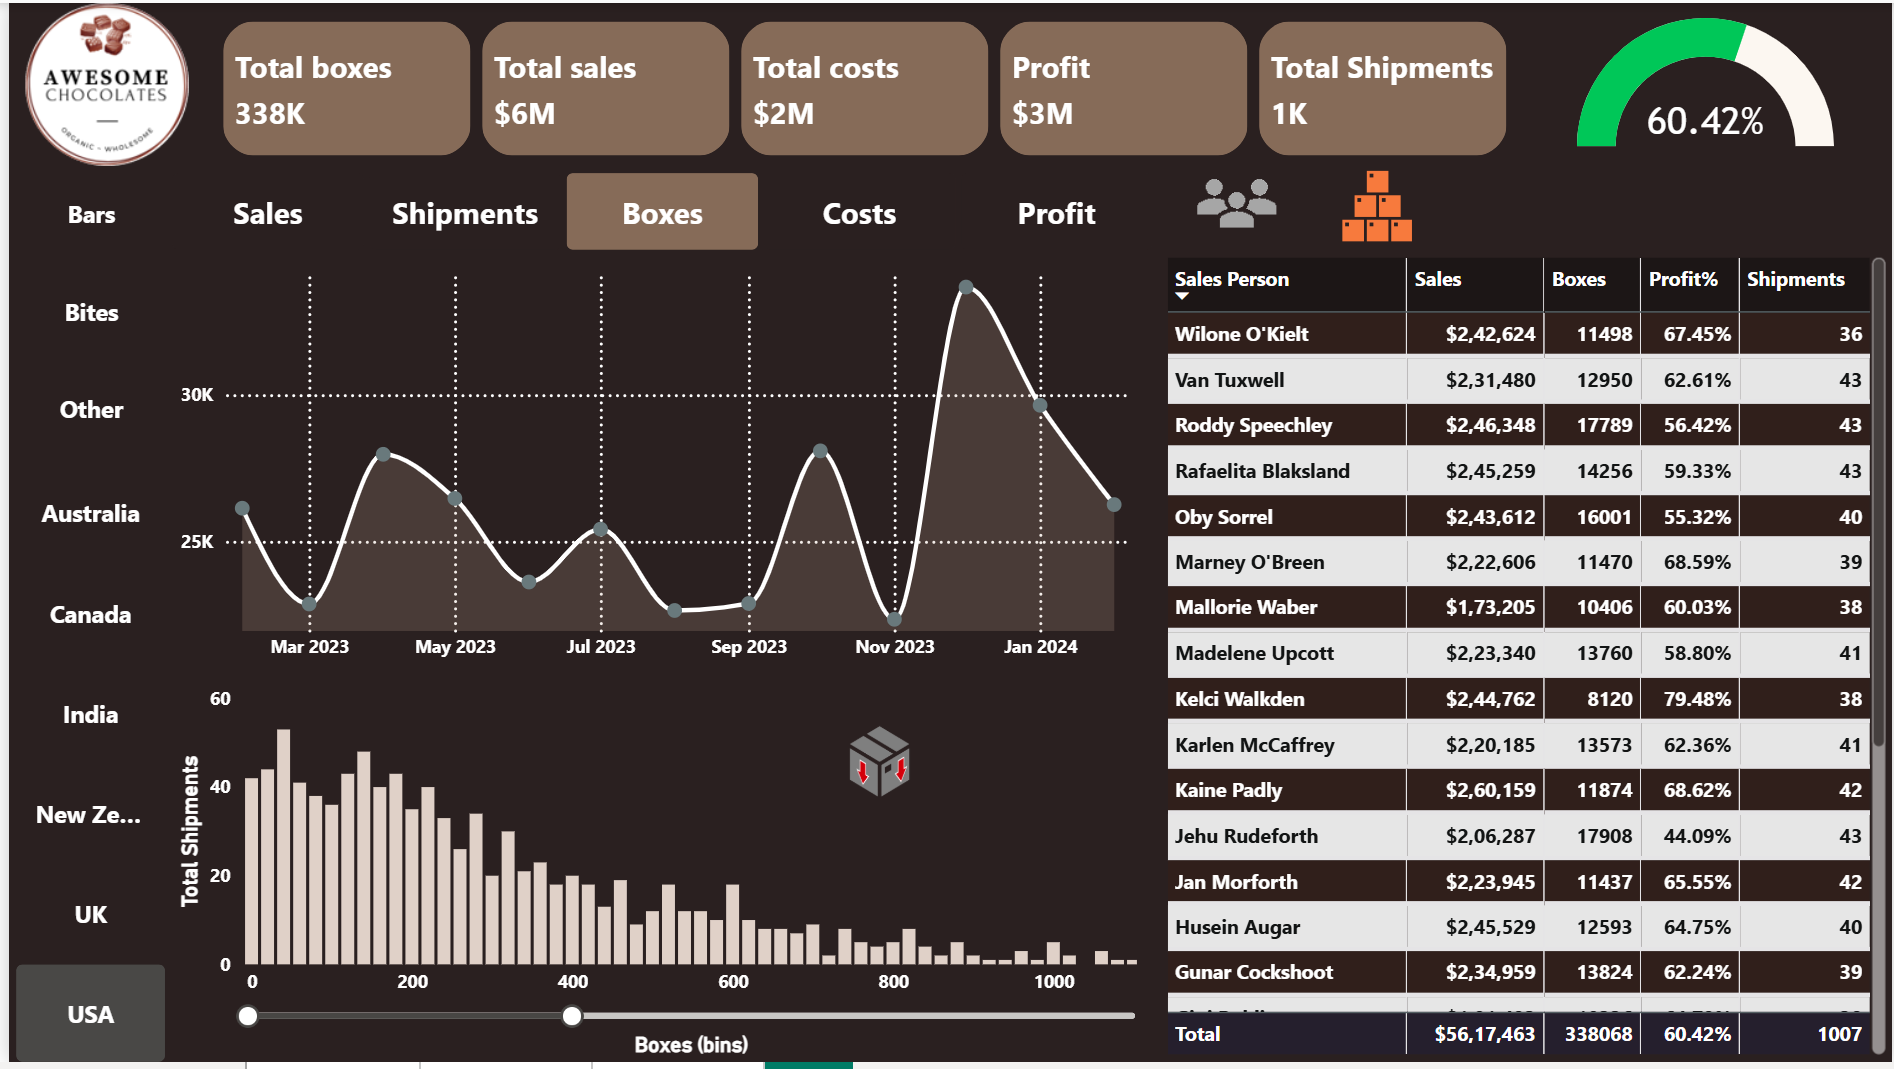

The page's visual inventory and layout, read from the dashboard file:
{"tool":"powerbi","page":{"name":"Page 2","canvas":[1280,720],"ordinal":0},"visuals":[{"type":"gauge","fields":{"Y":["_Measures.Profit%"]},"box":[1026,0,254,107.3],"z":0},{"type":"cardVisual","fields":{"Data":["_Measures.Total boxes","_Measures.Total sales","_Measures.Total costs","_Measures.Profit","_Measures.total shipments"]},"box":[136.9,3.8,889,107.3],"z":1000},{"type":"lineChart","fields":{"Y":["_Measures.Total boxes"],"Category":["calendar.Start of Month"]},"box":[112.3,172.3,669.5,283.1],"z":2000},{"type":"advancedSlicerVisual","fields":{"Values":["measure selector.measure selector"]},"box":[106.7,111.7,675,60],"z":3000},{"type":"advancedSlicerVisual","fields":{"Values":["shipments.Geography"]},"box":[0,313.3,111.7,406.7],"z":4000},{"type":"advancedSlicerVisual","fields":{"Values":["products.Category"]},"box":[0,106.3,112.3,206.7],"z":5000},{"type":"columnChart","fields":{"Category":["shipments.Boxes (bins)"],"Y":["_Measures.total shipments"]},"box":[110.6,458,674.5,261.7],"z":6000},{"type":"tableEx","title":"sales table","fields":{"Values":["shipments.Sales Person","_Measures.Total sales","_Measures.Total boxes","_Measures.Profit%","_Measures.total shipments"]},"box":[781.9,167.8,498.8,551.2],"z":10000},{"type":"image","title":"peopledull","box":[784.9,106.3,100,61.4],"z":11000},{"type":"image","title":"product","box":[885.2,106.3,100,63.4],"z":12000},{"type":"image","box":[0,0,133.3,110.8],"z":13000},{"type":"image","box":[545.2,486.8,91.4,58.4],"z":14000}]}

Visuals, with their boxes in screenshot pixels (x1, y1, x2, y2), scaled from the page's 1280x720 canvas onto the 1894x1069 screenshot:
gauge - _Measures.Profit%: crop(1518, 0, 1893, 159)
cardVisual - _Measures.Total boxes x _Measures.Total sales: crop(203, 6, 1518, 165)
lineChart - _Measures.Total boxes x calendar.Start of Month: crop(166, 256, 1157, 676)
advancedSlicerVisual - measure selector.measure selector: crop(158, 166, 1157, 255)
advancedSlicerVisual - shipments.Geography: crop(0, 465, 165, 1068)
advancedSlicerVisual - products.Category: crop(0, 158, 166, 465)
columnChart - shipments.Boxes (bins) x _Measures.total shipments: crop(164, 680, 1162, 1068)
"sales table" tableEx: crop(1157, 249, 1893, 1068)
"peopledull" image: crop(1161, 158, 1309, 249)
"product" image: crop(1310, 158, 1458, 252)
image: crop(0, 0, 197, 165)
image: crop(807, 723, 942, 809)
